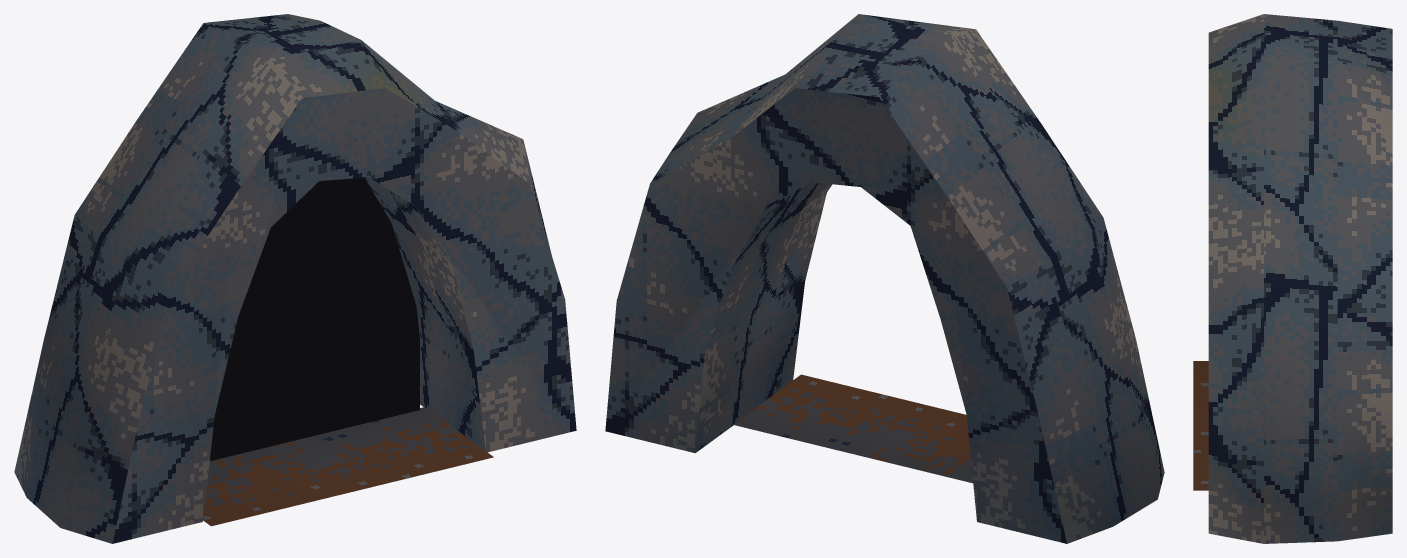
Rendered from cave.mouth.glb.
3 renders of one model, left to right at view 1: azimuth 30°, elevation 25°; view 2: azimuth 150°, elevation 25°; view 3: azimuth 270°, elevation 25°, orthographic. The views are drawn at different scales.
Visible parts, largest first — view 1: kit_arch, kit_card_void, kit_shell_threshold; view 2: kit_arch, kit_shell_threshold; view 3: kit_arch, kit_shell_threshold.
Part boxes in pixels (x1,y1,x2,y2): kit_arch: (14, 14, 576, 543); kit_card_void: (209, 177, 419, 461); kit_shell_threshold: (203, 407, 493, 526); kit_arch: (605, 14, 1164, 543); kit_shell_threshold: (733, 374, 973, 483); kit_arch: (1208, 14, 1392, 543); kit_shell_threshold: (1193, 361, 1208, 490).
Bounding box in the file's own units: 7.2 × 5.64 × 2.6.
Materials: 3 (3 with a texture image).
